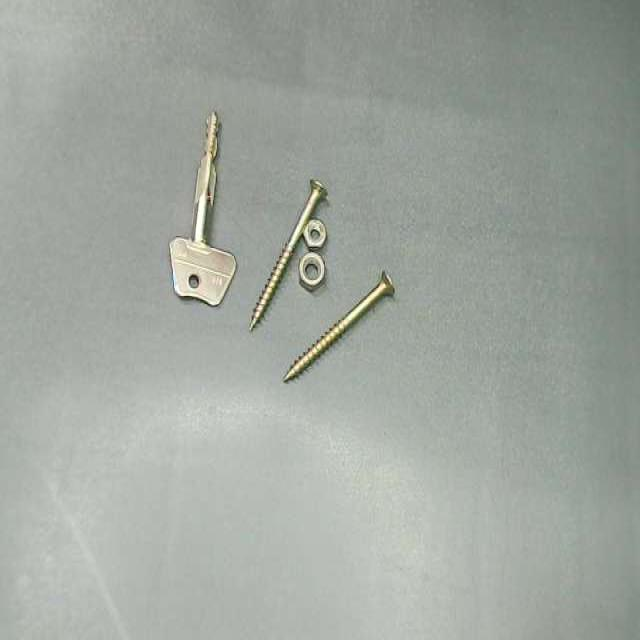Parafuso: (284, 271, 394, 382), (250, 180, 326, 330)
Porca: (299, 252, 325, 290), (303, 219, 326, 249)
